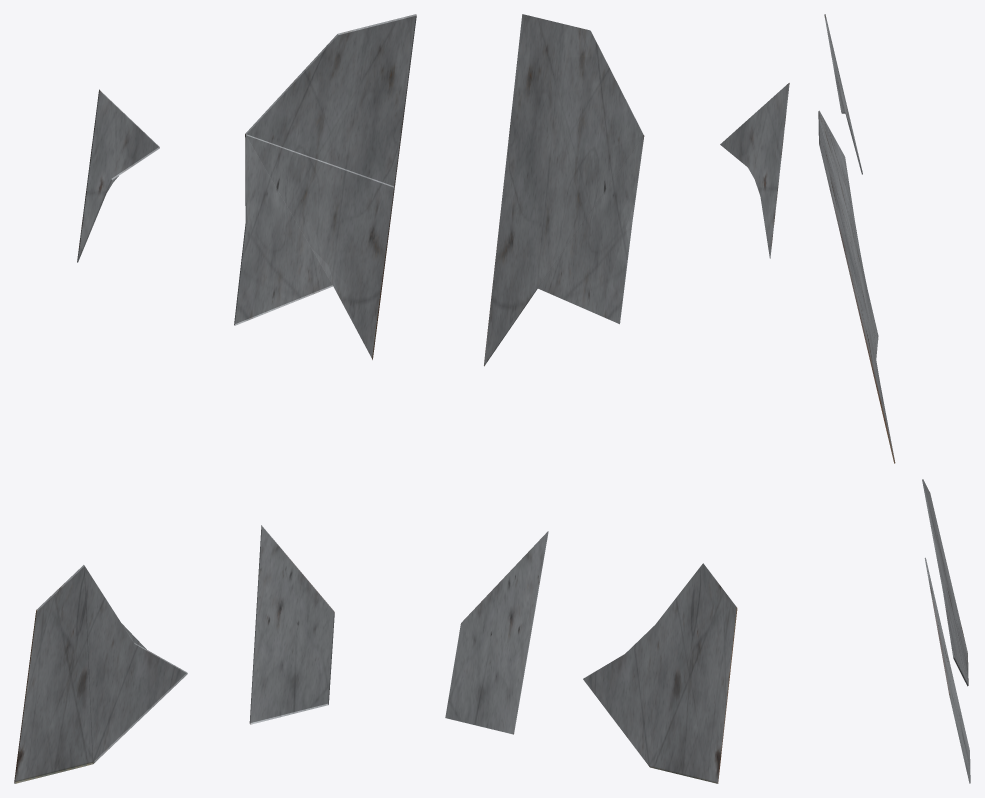
Rendered from MirrorShards.fbx.
3 views of the same model, side by side, from view 1: azimuth 30°, elevation 25°; view 2: azimuth 150°, elevation 25°; view 3: azimuth 270°, elevation 25° (orthographic). The views are drawn at different scales.
Parts seen in each view (by area): view 1: Shards; view 2: Shards; view 3: Shards.
Part boxes in pixels (box(x1,y1,x2,y2)): Shards: box(14, 14, 416, 783); Shards: box(445, 14, 789, 783); Shards: box(818, 14, 970, 783).
Size of the model in its own units: 99.84 by 229 by 49.2.
